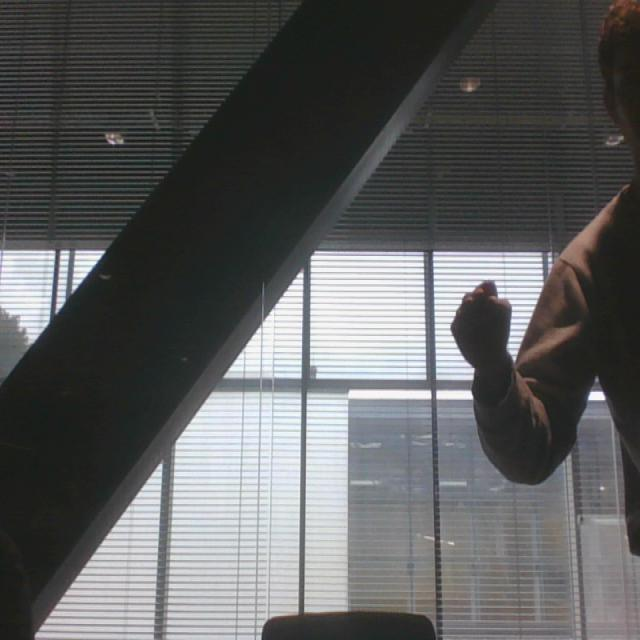stop: (448, 274, 518, 378)
